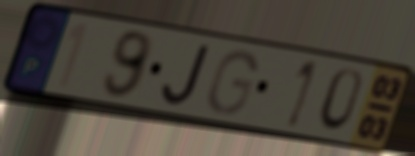0: (313, 66, 366, 134)
1: (285, 59, 321, 130), (57, 22, 91, 91)
9: (99, 28, 157, 102)
G: (204, 48, 260, 117)
J: (160, 41, 213, 108)
